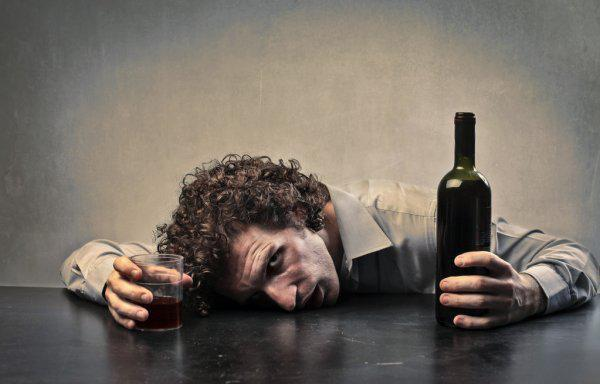Drunk: (222, 219, 331, 310)
